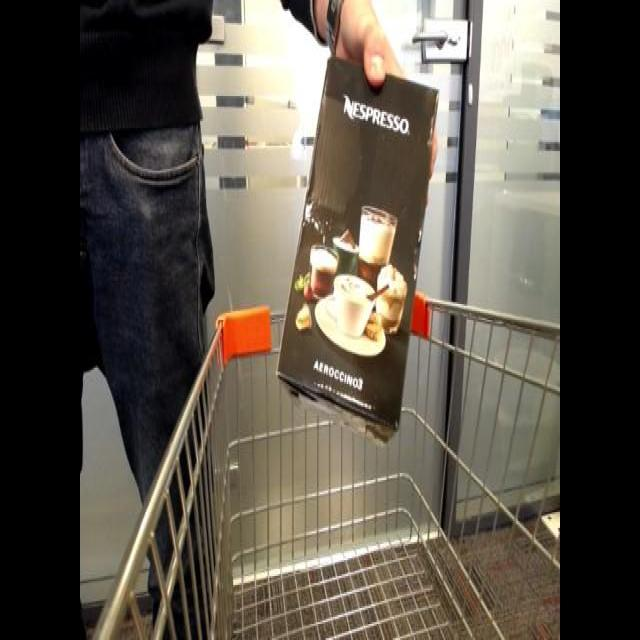Nespresso: (271, 55, 454, 452)
